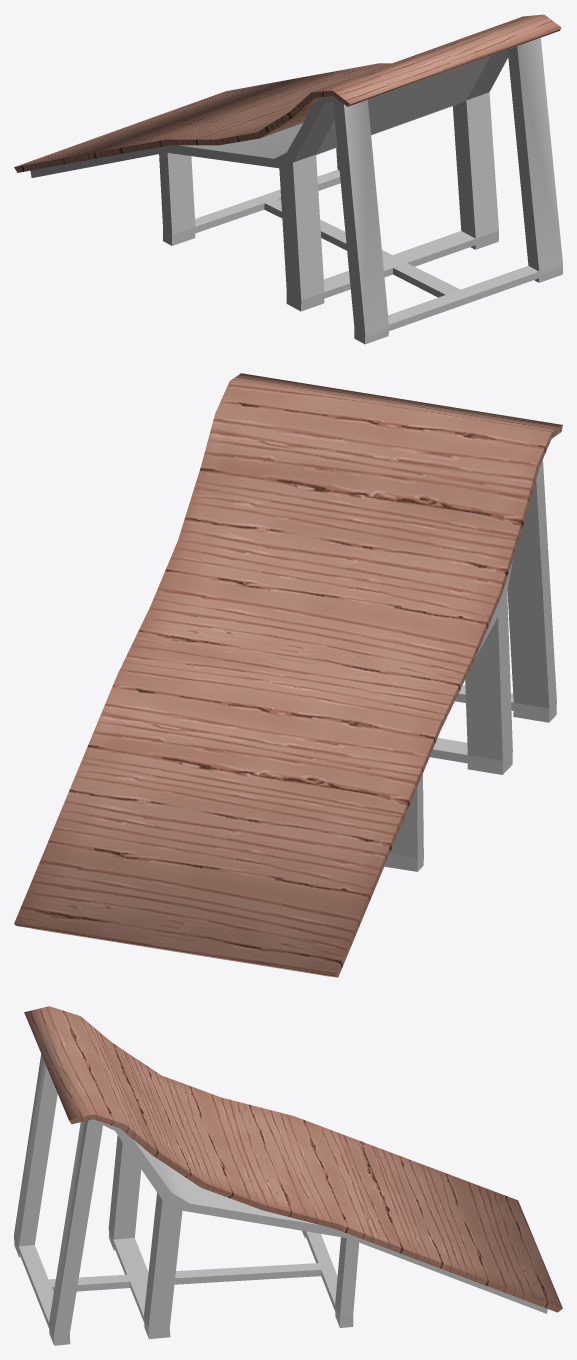
The model's file is chaiseMairieAjustée.fbx.
3 renders of one model, top to bottom at view 1: azimuth 30°, elevation 25°; view 2: azimuth 150°, elevation 25°; view 3: azimuth 270°, elevation 25°, orthographic. The views are drawn at different scales.
Parts seen in each view (by area): view 1: M.Chaise.Longue.001; view 2: M.Chaise.Longue.001; view 3: M.Chaise.Longue.001.
Part boxes in pixels (<box>): M.Chaise.Longue.001: <box>14,14,562,344</box>; M.Chaise.Longue.001: <box>14,373,562,977</box>; M.Chaise.Longue.001: <box>14,1006,562,1345</box>.
Size of the model in its own units: 390 by 298 by 624.
